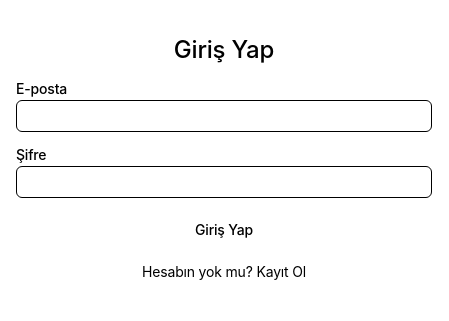
Scenario: LoginPage › boş form submit edilince validasyon hatası göstermeli
What coordinates should you click on to do the following:
click the button "Giriş Yap"
I would click on:
 (224, 230)
Its box is 16,214 -> 432,246.
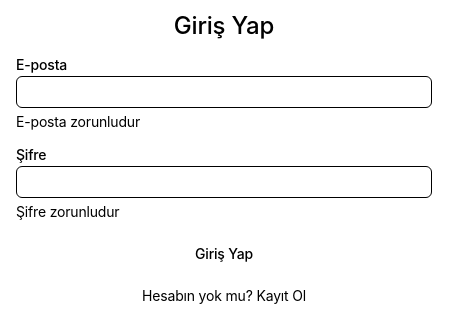
Now the text "E-posta zorunludur" is shown, box 16,113 -> 140,130
Now the text "Şifre zorunludur" is shown, box 16,203 -> 119,220
